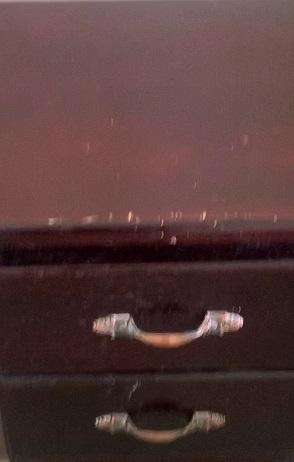cabinet_door: (0, 264, 294, 373), (0, 374, 293, 460)
handle: (88, 300, 247, 356), (87, 406, 231, 447)
